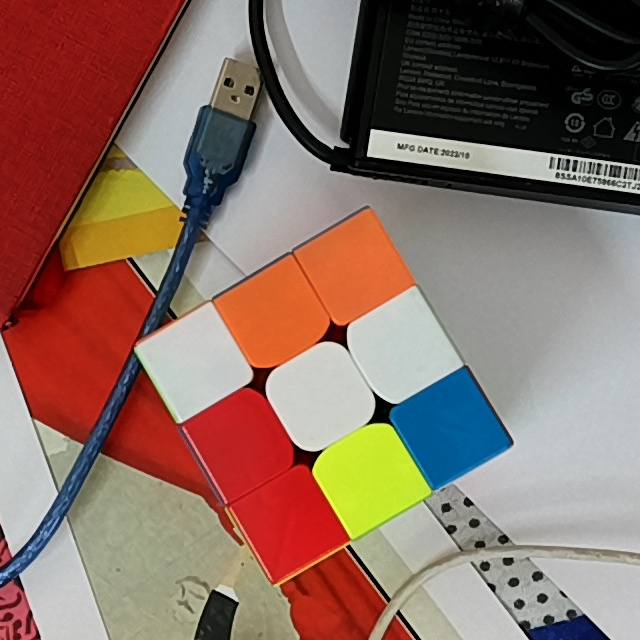tile: (286, 364, 353, 428), (418, 396, 482, 461), (366, 318, 432, 380), (160, 332, 223, 395), (339, 442, 401, 506), (243, 284, 306, 346), (258, 490, 320, 553), (322, 236, 387, 296), (212, 409, 270, 474)
